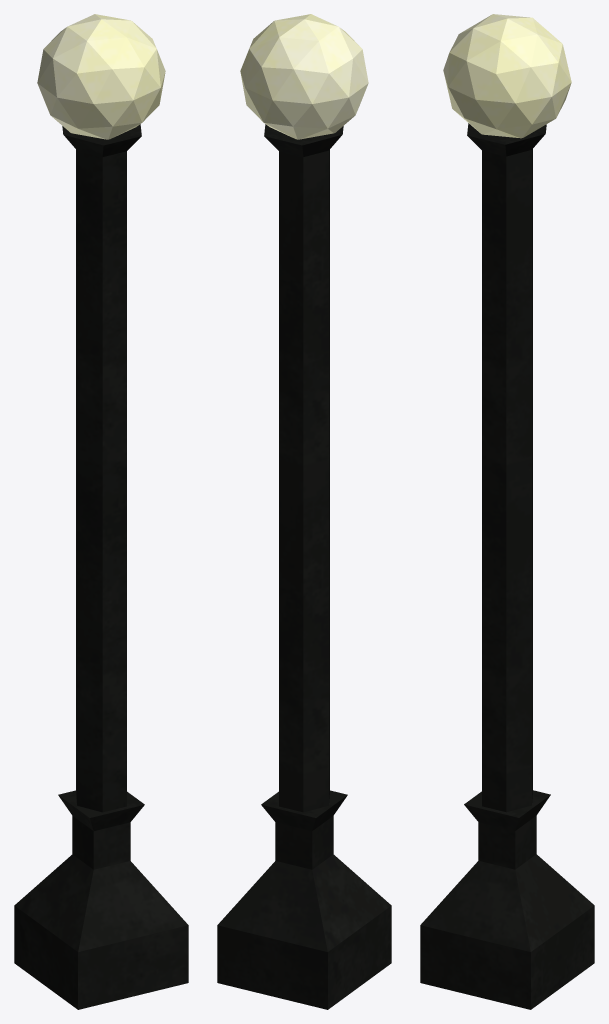
The model's file is lamp post.fbx.
The picture shows the model from 3 angles, left to right: view 1: azimuth 30°, elevation 25°; view 2: azimuth 150°, elevation 25°; view 3: azimuth 330°, elevation 25°; orthographic projection.
Parts seen in each view (by area): view 1: cylinder, cube, Bulb; view 2: cylinder, cube, Bulb; view 3: cylinder, cube, Bulb.
Part boxes in pixels (<box>): cylinder: <box>62,124,141,812</box>; cube: <box>14,790,188,1009</box>; Bulb: <box>37,14,165,139</box>; cylinder: <box>264,124,343,812</box>; cube: <box>217,790,391,1009</box>; Bulb: <box>240,14,368,139</box>; cylinder: <box>467,123,546,812</box>; cube: <box>420,790,594,1009</box>; Bulb: <box>443,14,571,138</box>.
Bounding box in the file's own units: 600 × 4950 × 600.
2 materials, 2 textured.
